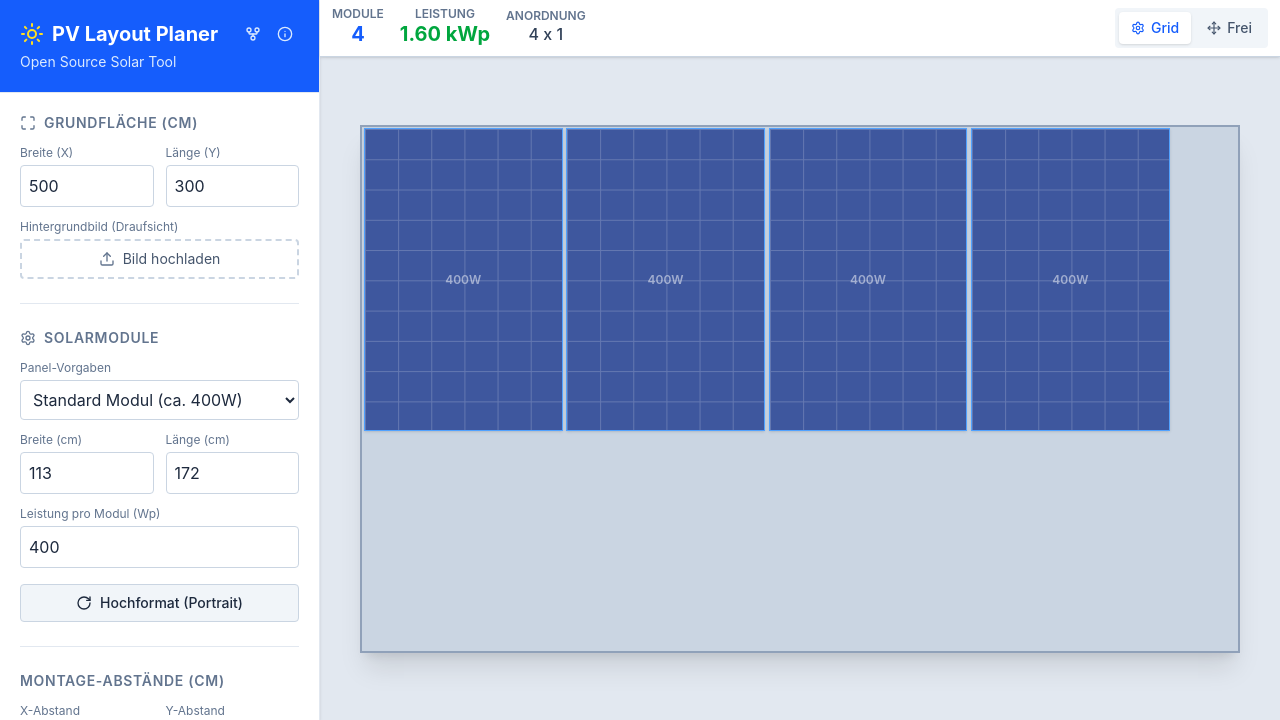
Test: Free placement mode › places a free panel on canvas click in free mode
Click the button with aria-label "switch to free placement mode" at [1230, 28], box [1195,12,1264,44]
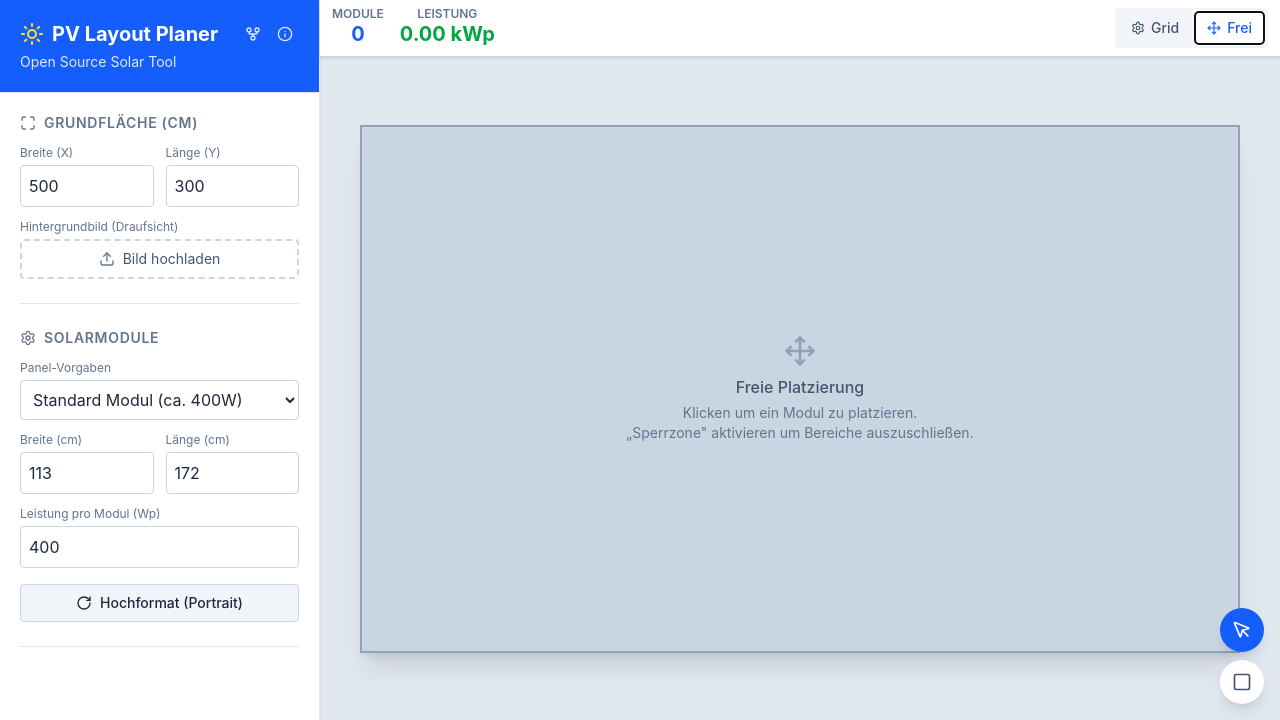
Press the mouse on the element with test id "canvas" at [800, 388], box [360,124,1240,652]
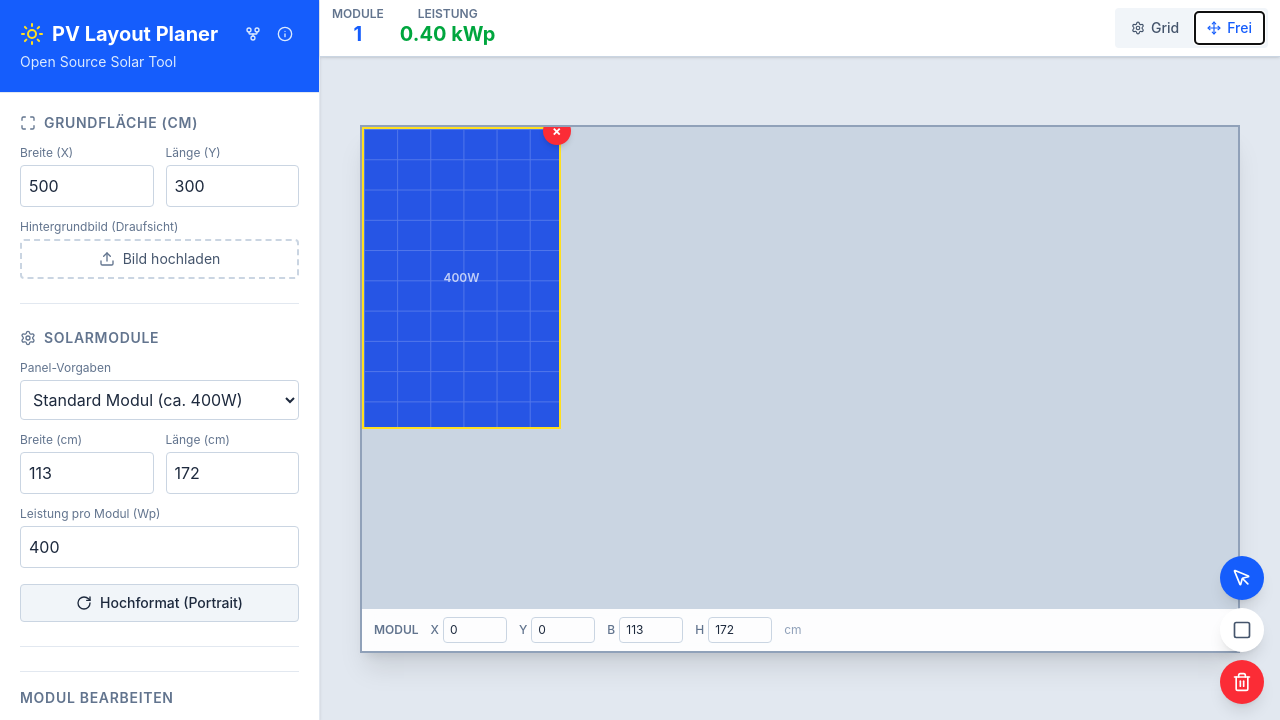
Result: the element with test id "free-panel" is shown at [362,126,561,429]
